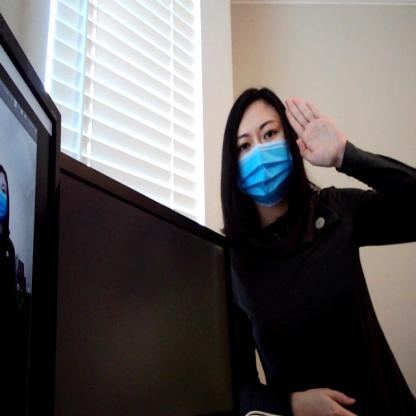hello: (283, 97, 340, 167)
